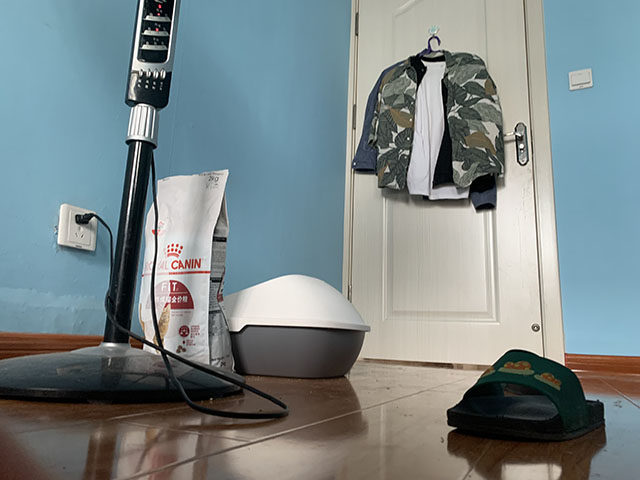slippers: (445, 348, 606, 442)
wire: (73, 212, 290, 421)
